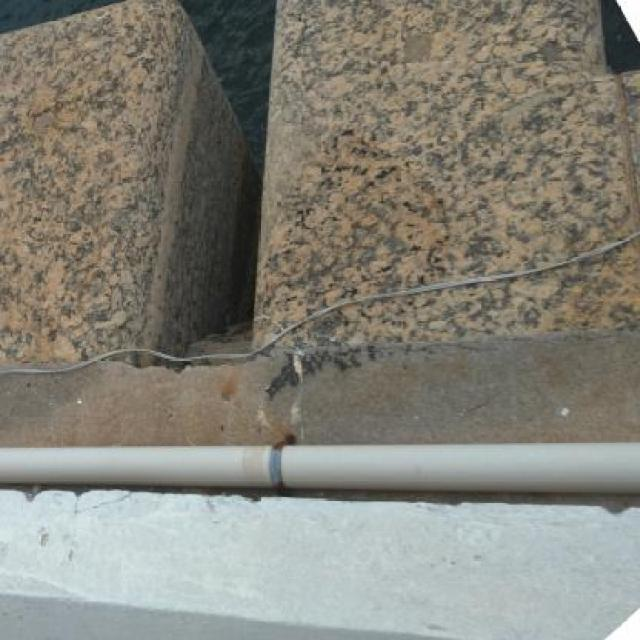gas: (3, 442, 640, 491)
